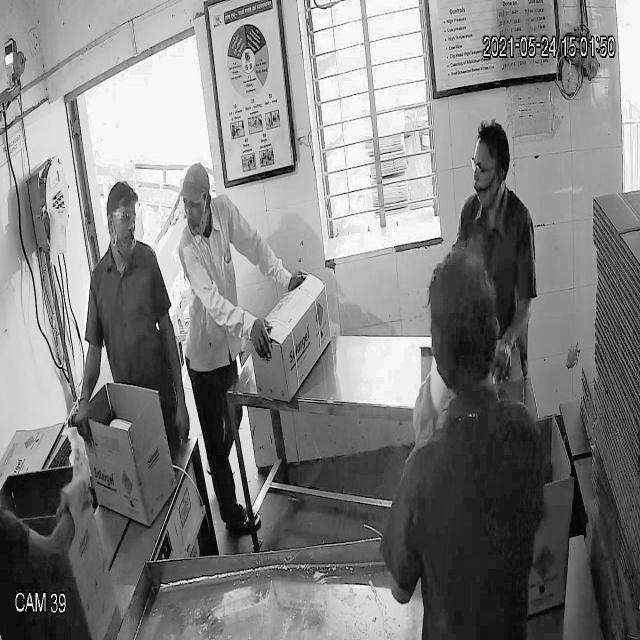Gafas: (466, 151, 511, 181), (102, 206, 139, 230)
Sin_gafas: (179, 196, 207, 215)
